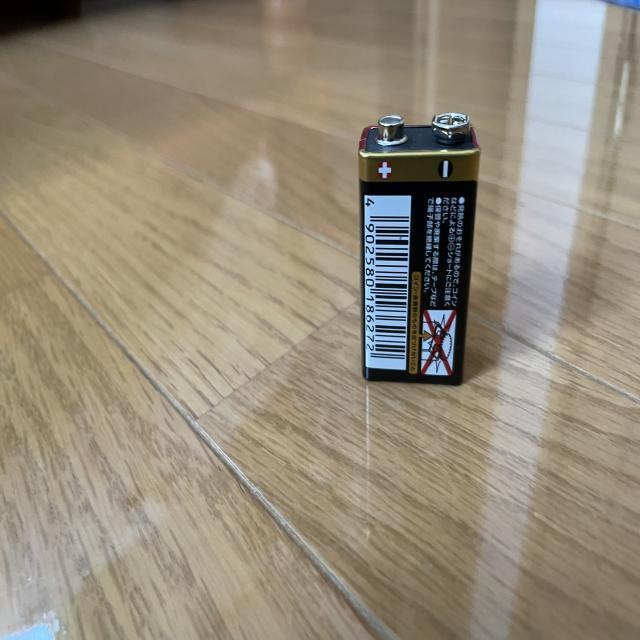9V: (355, 111, 480, 388)
